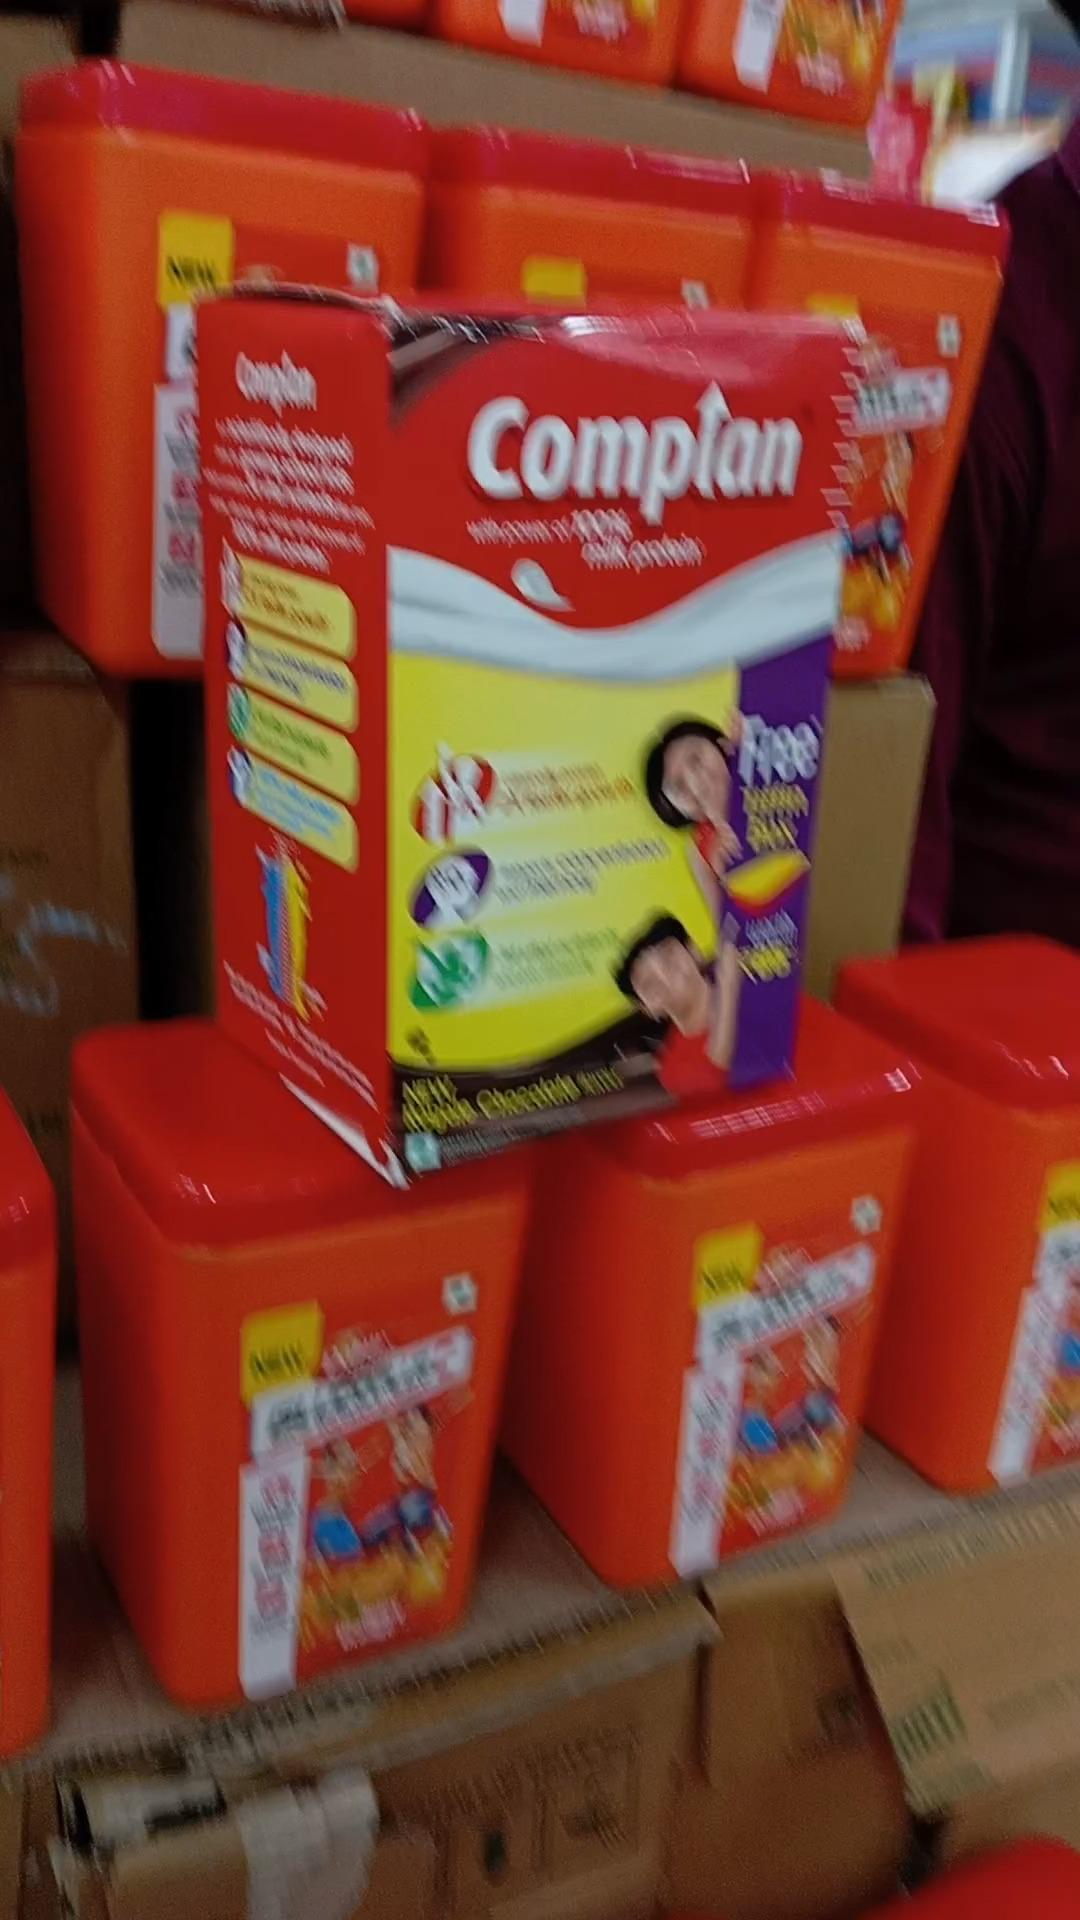COMPLAN_CHOCOLATE_500_GMS_PACK: (381, 305, 798, 1093)
